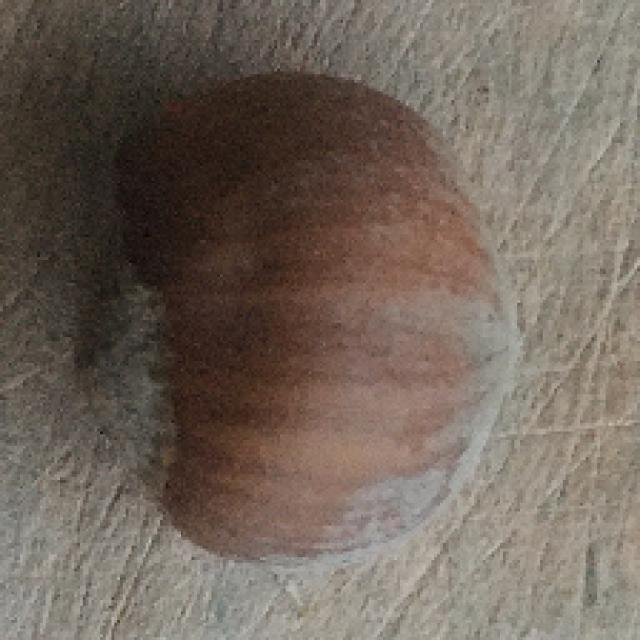qualityHazelnut: (80, 65, 521, 564)
